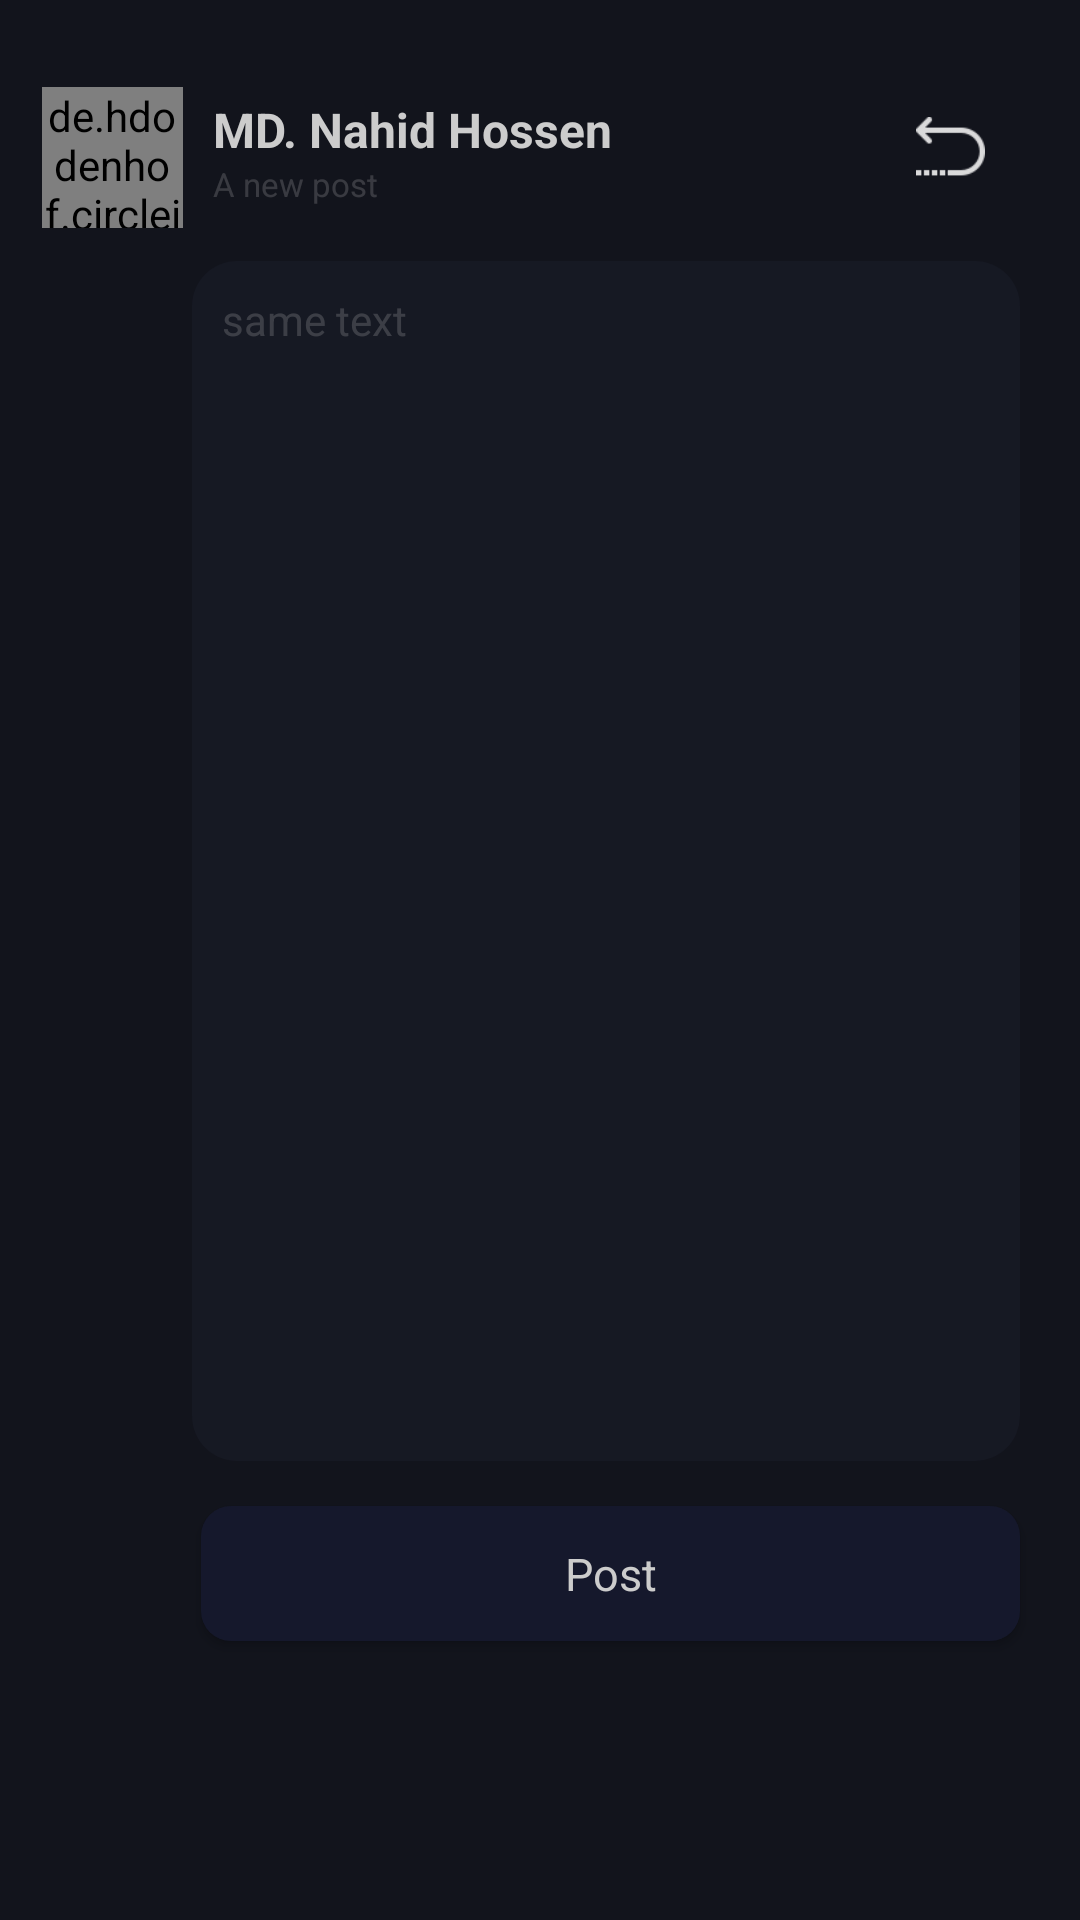

Locate icon controls on the screen. Image size 1080px x 1920px, boxes as (x1, y1, x2, y2).
back: (916, 117, 985, 176)
